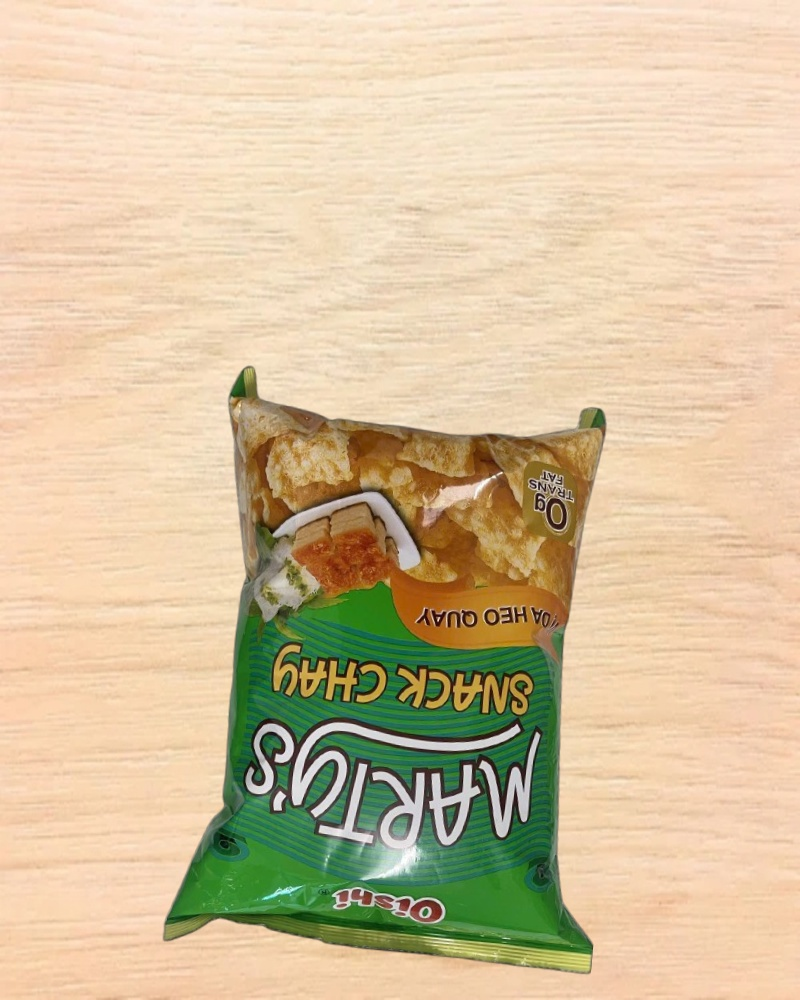Snack chay: (184, 367, 640, 979)
